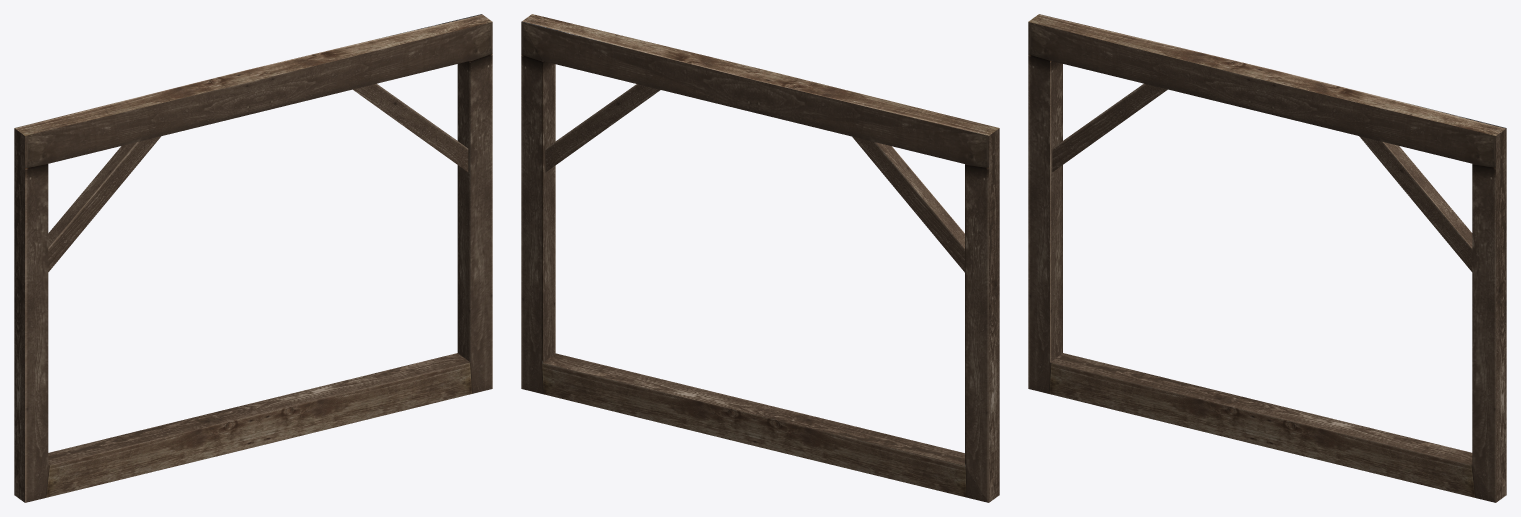
Rendered from Wall_Plan.dae.
3 renders of one model, left to right at view 1: azimuth 30°, elevation 25°; view 2: azimuth 150°, elevation 25°; view 3: azimuth 330°, elevation 25°, orthographic.
Parts seen in each view (by area): view 1: WallPlan1; view 2: WallPlan1; view 3: WallPlan1.
Boxes of the visible parts, box(x1,y1,x2,y2) form: WallPlan1: box(14, 14, 492, 502); WallPlan1: box(521, 14, 999, 502); WallPlan1: box(1028, 14, 1506, 502).
Size of the model in its own units: 4 by 3 by 0.1929.
1 material, 1 textured.
